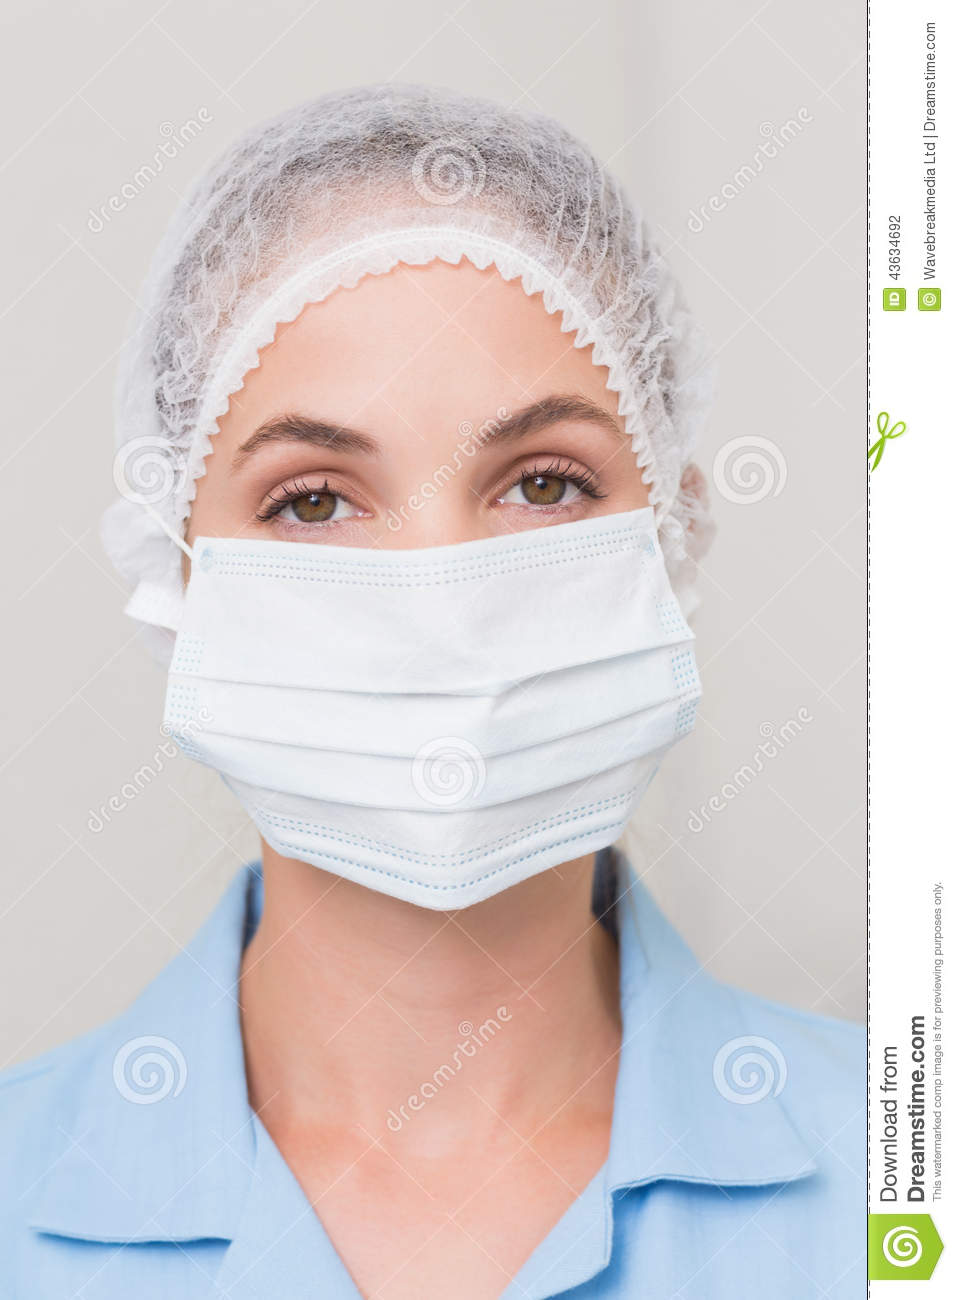mask: (159, 543, 730, 909)
